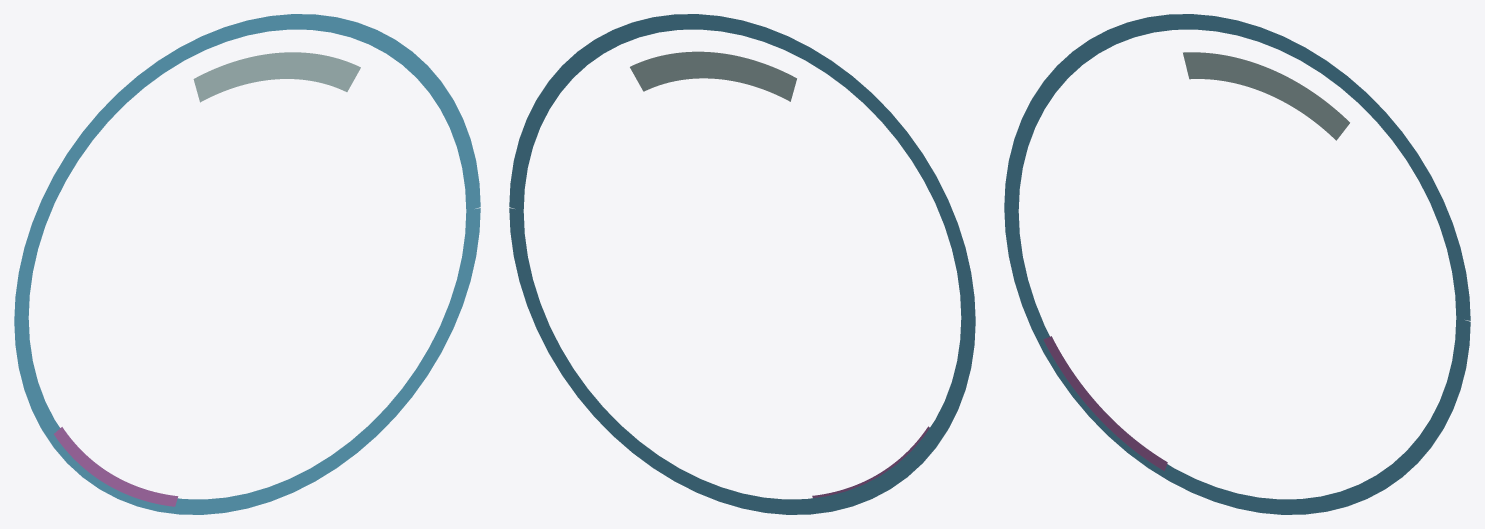
File: Melody_Bubble.fbx
The picture shows the model from 3 angles, left to right: view 1: azimuth 30°, elevation 25°; view 2: azimuth 150°, elevation 25°; view 3: azimuth 330°, elevation 25°; orthographic projection.
Visible parts, largest first — view 1: Melody_Bubble; view 2: Melody_Bubble; view 3: Melody_Bubble.
Part boxes in pixels (box(x1,y1,x2,y2)): Melody_Bubble: box(14, 14, 480, 514); Melody_Bubble: box(509, 14, 975, 514); Melody_Bubble: box(1004, 14, 1470, 514).
Bounding box in the file's own units: 206 × 206 × 0.3.
